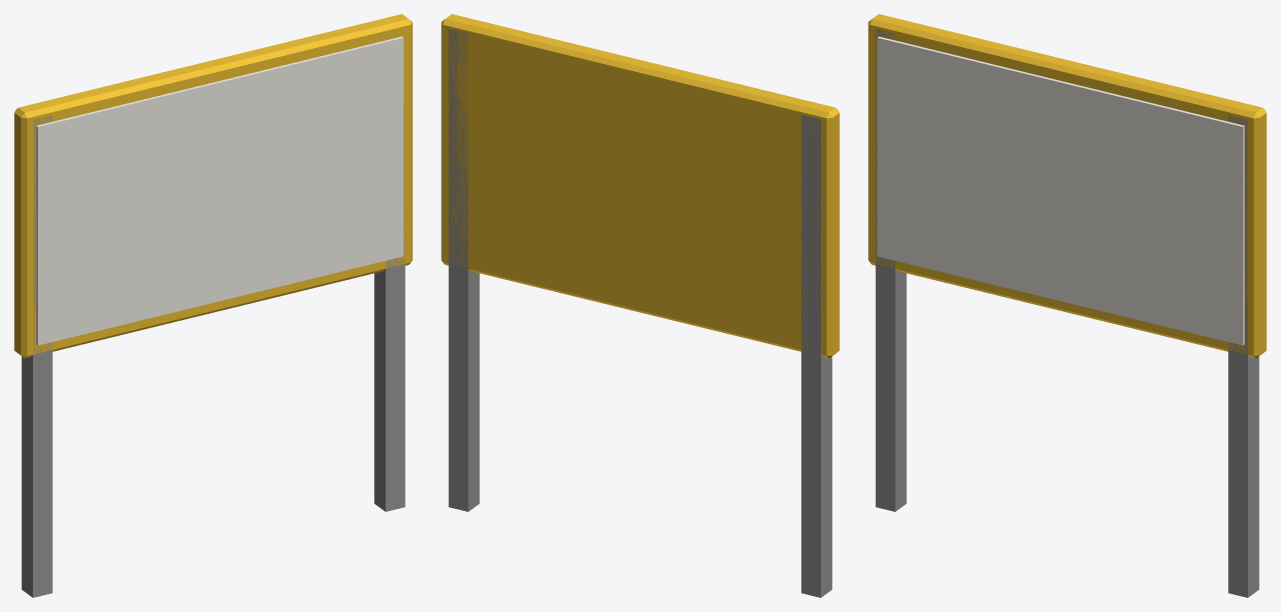
Rendered from PRP_CrewPadBoard.fbx.
The picture shows the model from 3 angles, left to right: view 1: azimuth 30°, elevation 25°; view 2: azimuth 150°, elevation 25°; view 3: azimuth 330°, elevation 25°; orthographic projection.
Parts seen in each view (by area): view 1: PRP_CrewPadBoard; view 2: PRP_CrewPadBoard; view 3: PRP_CrewPadBoard.
Boxes of the visible parts, <box> form: PRP_CrewPadBoard: <box>14,14,412,597</box>; PRP_CrewPadBoard: <box>441,14,839,597</box>; PRP_CrewPadBoard: <box>868,14,1266,597</box>.
Bounding box in the file's own units: 6 × 7.1 × 0.345.
